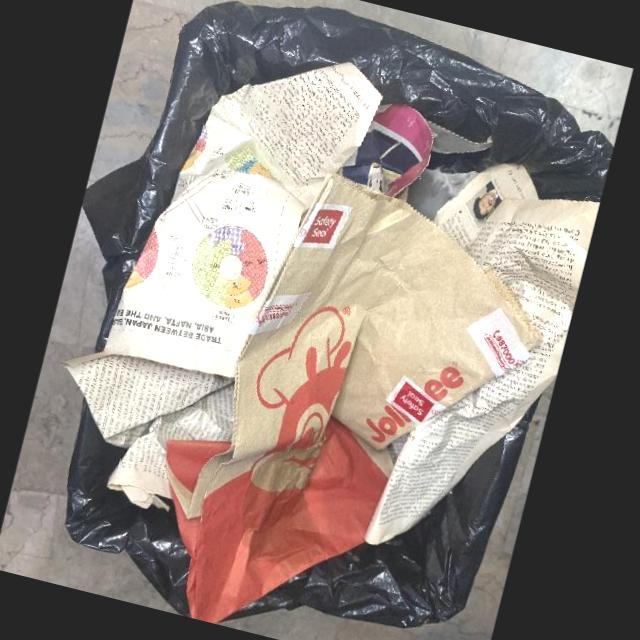giay: (165, 169, 538, 623), (364, 161, 600, 543), (105, 60, 382, 376), (59, 351, 235, 509)
